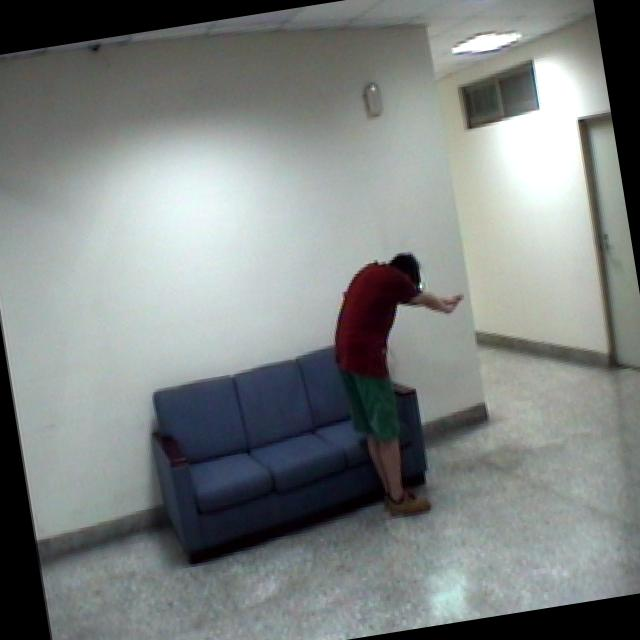bend: (319, 241, 502, 534)
